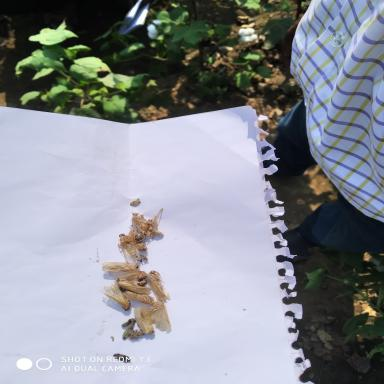abw: (99, 282, 132, 312), (149, 299, 173, 334), (116, 232, 143, 262), (147, 268, 170, 302), (132, 306, 156, 337), (114, 276, 152, 294), (98, 259, 140, 274), (122, 288, 156, 306), (109, 270, 148, 282)
